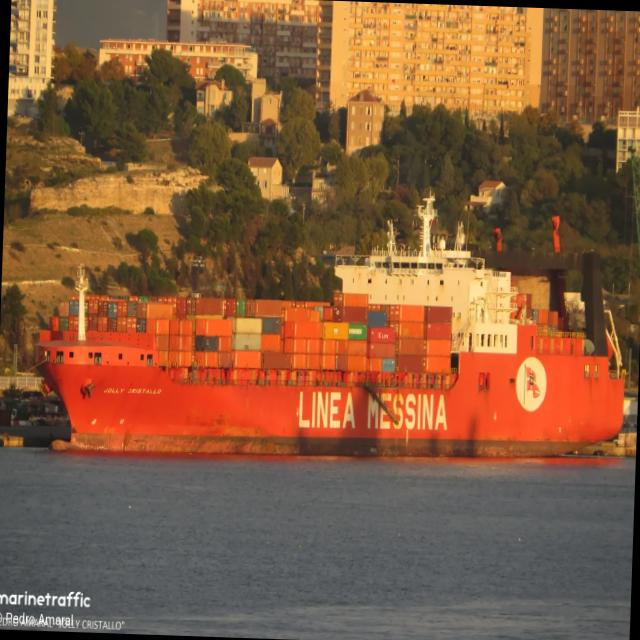Cargo: (35, 196, 623, 456)
